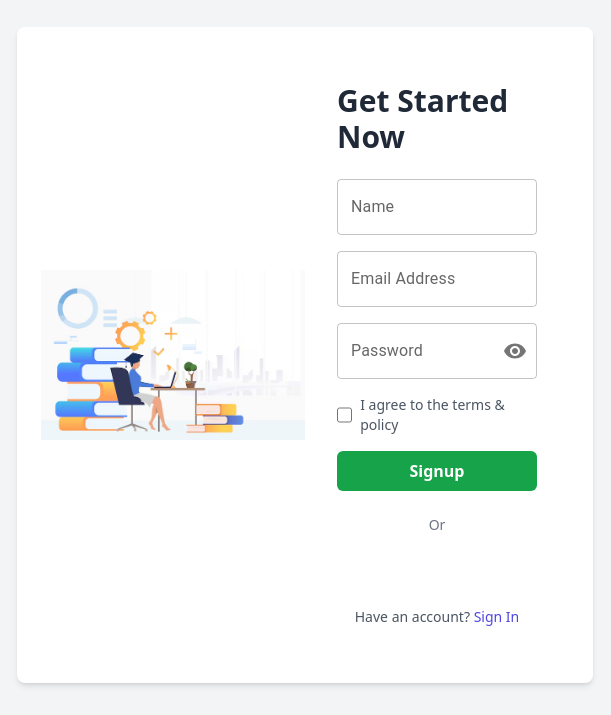
Scenario: SignupForm Component › Form Validation › shows validation error for empty email
The width and height of the screenshot is (611, 715).
Step 1. Type "Test User" into the field labelled "Name" → (437,207), box [337,179,537,235]
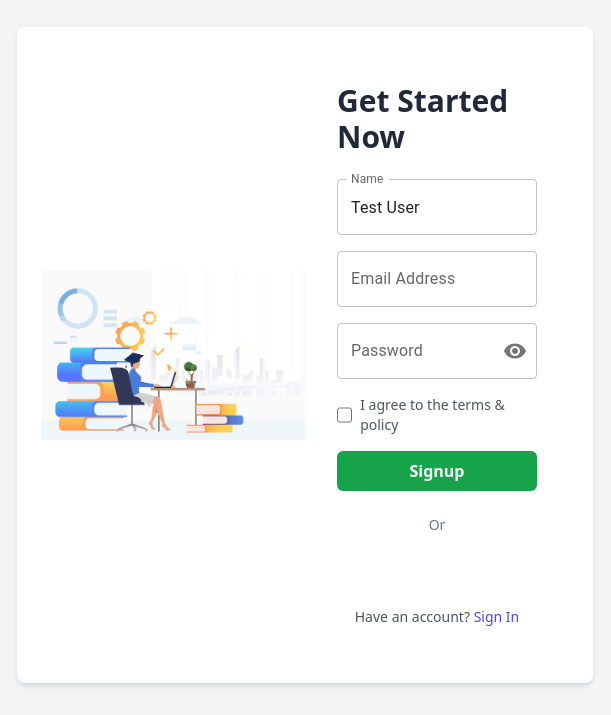
Step 2. Type "password123" into the password field labelled "Password" → (412,351), box [337,323,487,379]
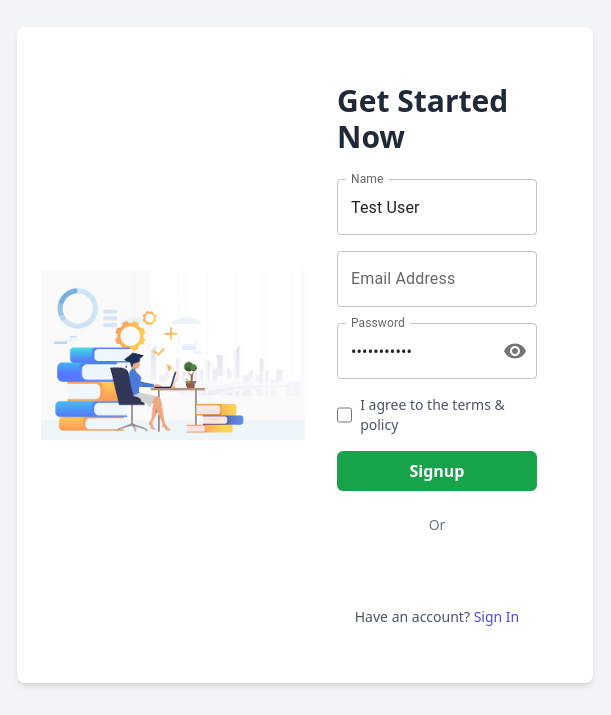
Step 3. Click the checkbox → (345,415), box [337,407,352,423]
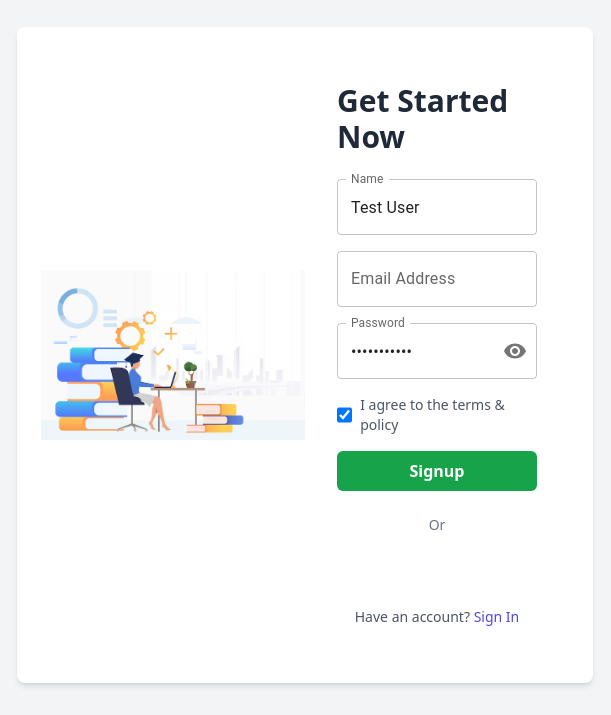
Step 4. Click the button "Signup" → (437,471), box [337,451,537,491]
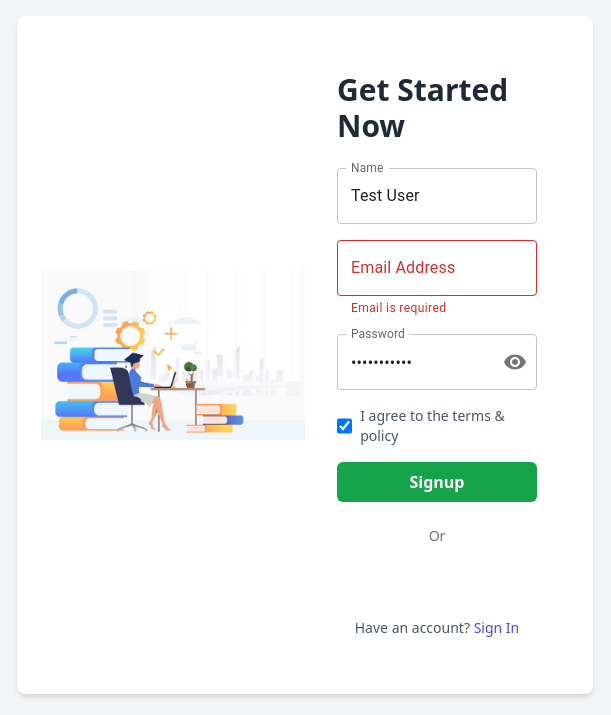
Result: the text "Email is required" is shown at [351,300,446,314]
